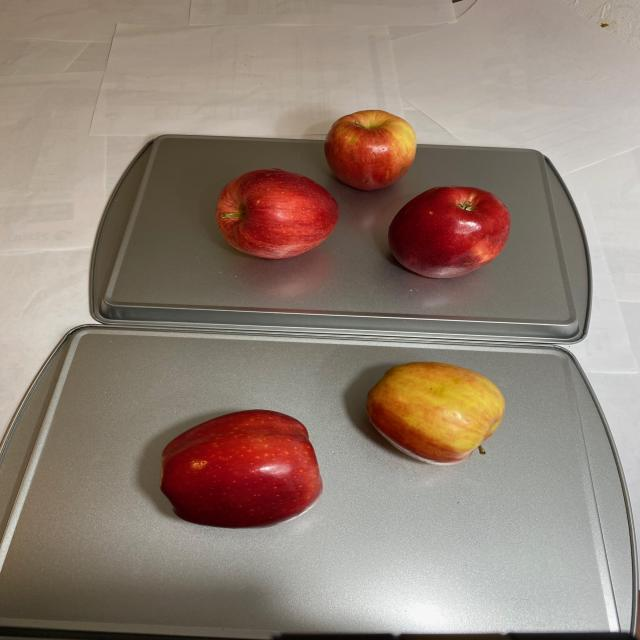apple: (154, 360, 512, 528), (208, 109, 514, 283)
